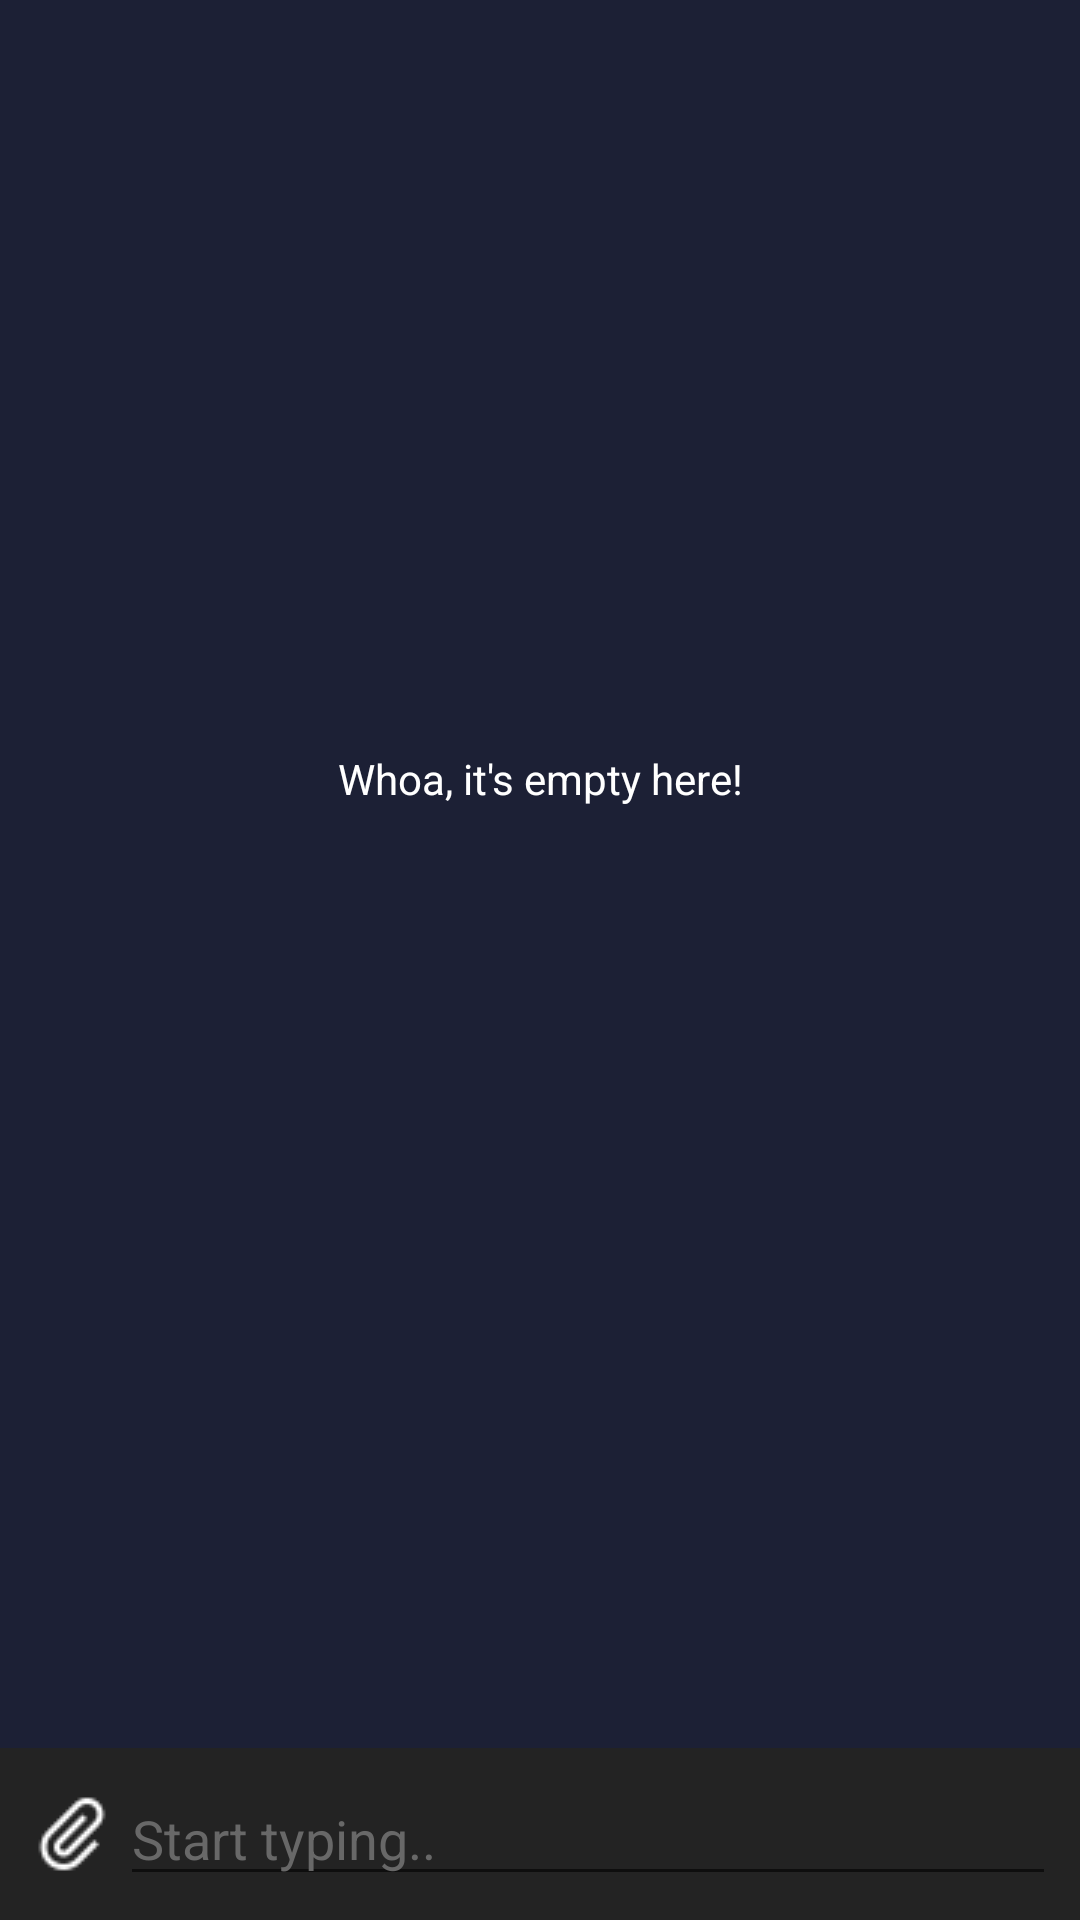

Point at icon controls on the screen. Image size 1080w x 1920h, points as point (x, y).
attachment: point (72, 1834)
